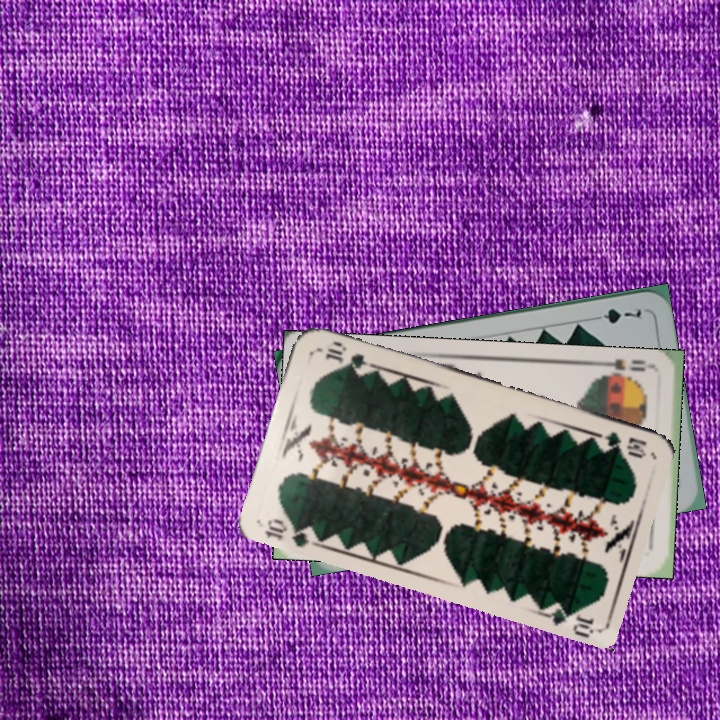G10: (260, 514, 320, 549), (590, 427, 649, 460)
G7: (587, 304, 644, 326)
SO: (597, 355, 657, 382)
